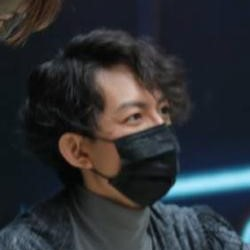mask: (75, 116, 187, 206)
